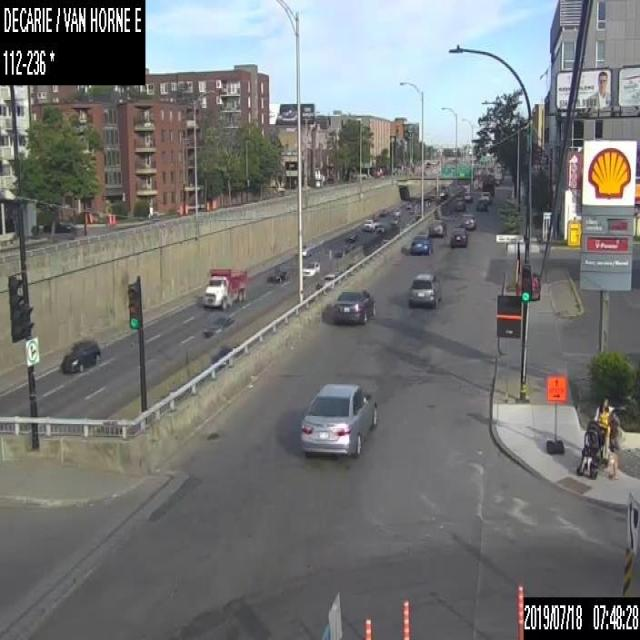construction: (546, 373, 566, 454), (516, 585, 524, 639), (400, 597, 409, 639), (363, 616, 371, 639), (210, 200, 216, 209), (184, 202, 188, 215), (178, 202, 182, 215), (107, 212, 111, 225), (111, 213, 115, 225), (88, 212, 92, 223), (84, 211, 87, 224), (206, 200, 208, 210)
pedestrian: (576, 398, 618, 478)
vehicle: (298, 381, 378, 455), (202, 265, 246, 307), (332, 288, 374, 323), (62, 337, 100, 372), (406, 270, 441, 306), (202, 314, 234, 338), (210, 343, 236, 367), (409, 234, 432, 253), (268, 264, 288, 282), (449, 226, 467, 245), (302, 258, 319, 278), (428, 219, 446, 236), (459, 212, 475, 228), (321, 272, 335, 287), (363, 217, 377, 231), (297, 243, 311, 256), (479, 191, 491, 203), (454, 196, 464, 210), (476, 198, 486, 209), (375, 221, 384, 232), (390, 215, 399, 224), (392, 207, 401, 215), (464, 191, 472, 200), (380, 208, 387, 215)
